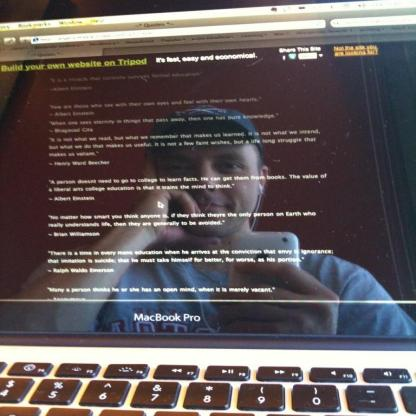board: (0, 48, 416, 409)
